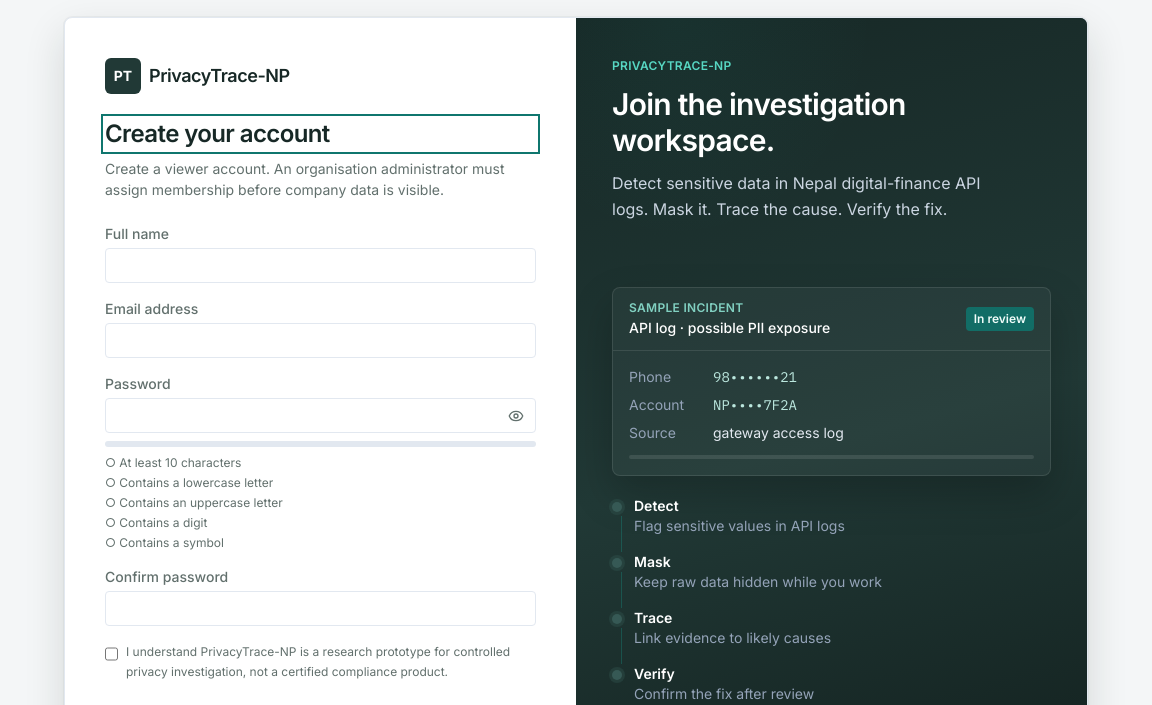
it: auth signup UI › validates password mismatch client-side
Expected: the heading "Create your account" is shown, x1=105 y1=118 x2=536 y2=150
Type "Synth User" into the field labelled "Full name" at (320, 266), box x1=105 y1=248 x2=536 y2=283
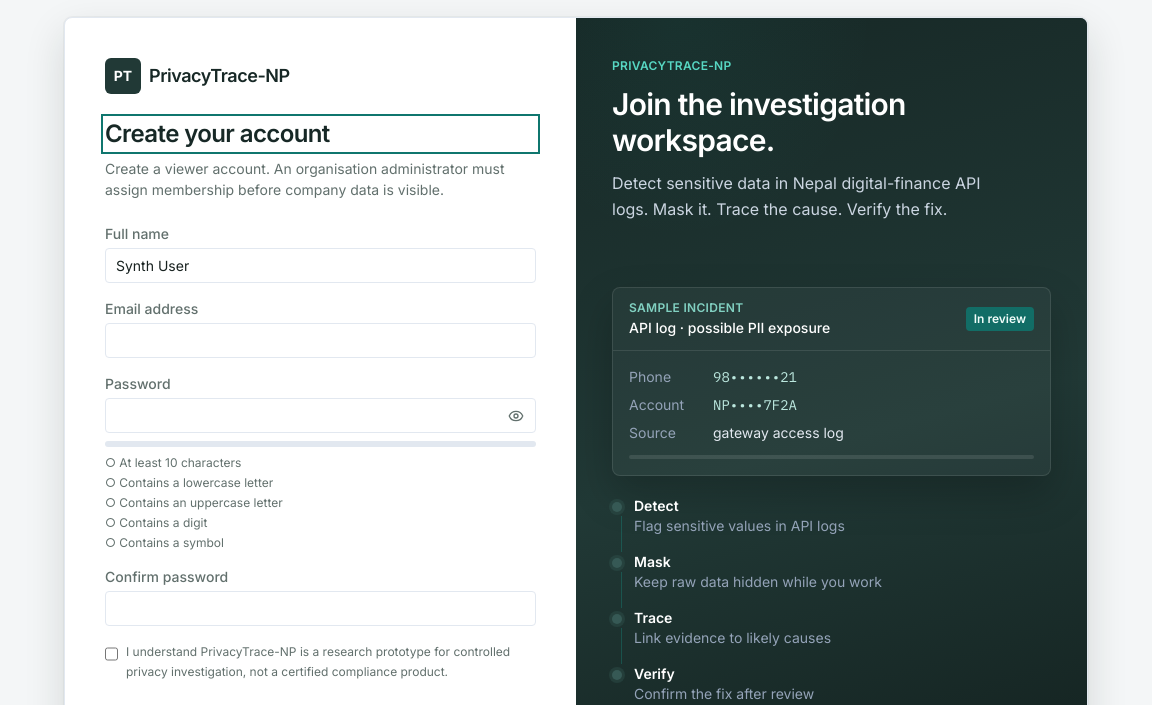
Type "synth@example.test" into the field labelled "Email address" at (320, 340), box x1=105 y1=323 x2=536 y2=358
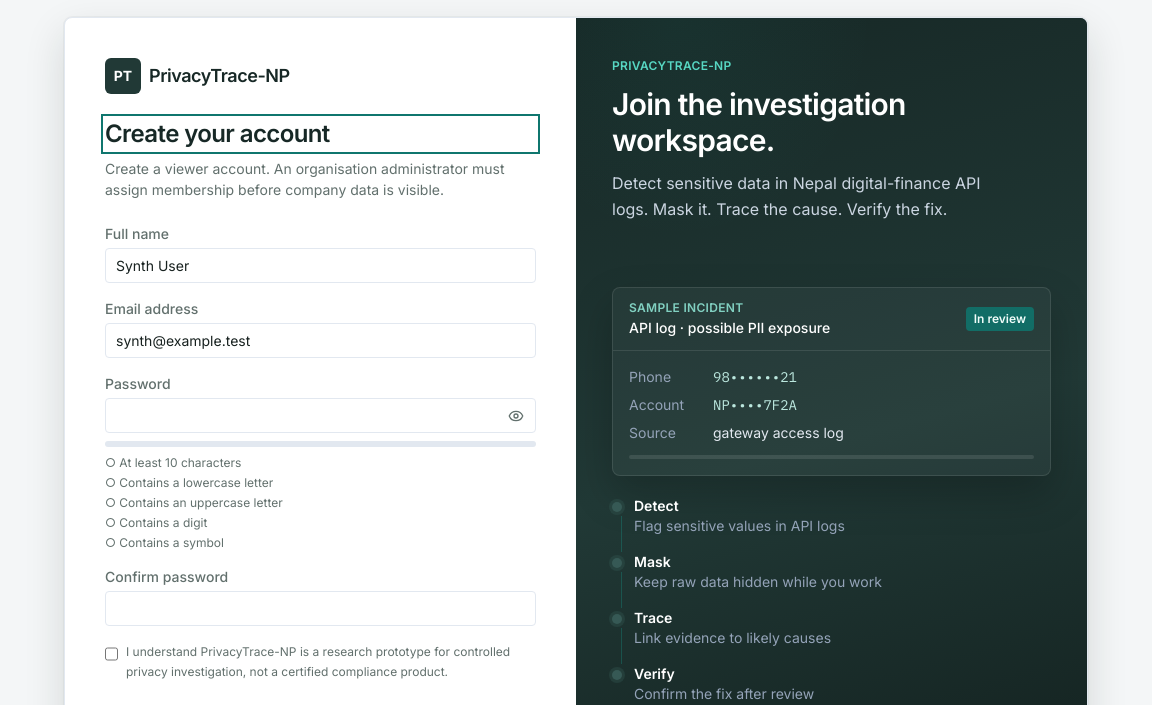
Type "SyntheticPass123!" into the password field labelled "Password" at (320, 416), box x1=105 y1=398 x2=536 y2=433
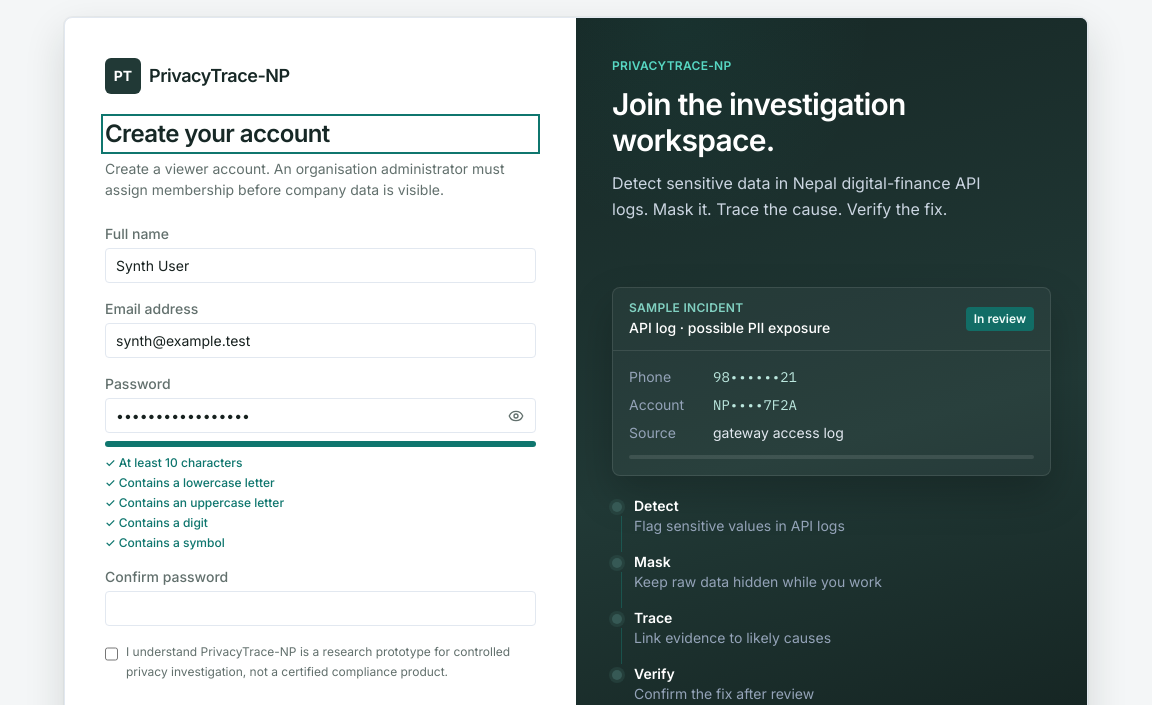
Type "DifferentPass123!" into the password field labelled "Confirm password" at (320, 608), box x1=105 y1=591 x2=536 y2=626
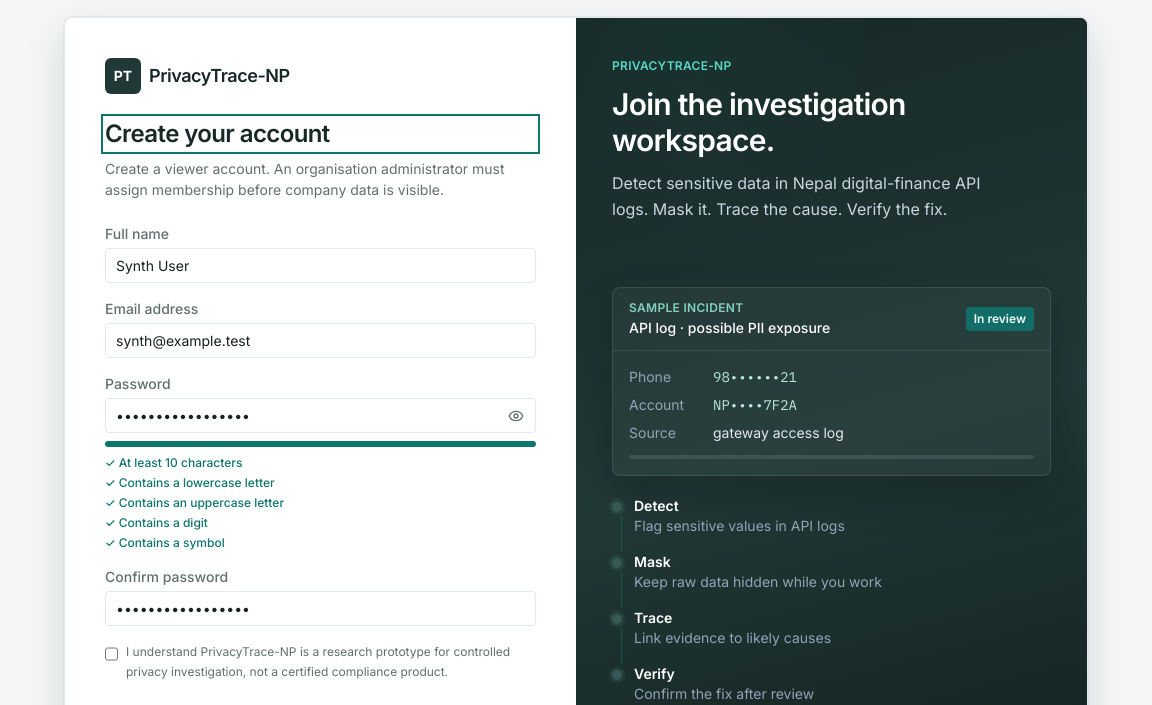
Click the checkbox labelled "research prototype" at (112, 654), box x1=105 y1=646 x2=118 y2=662
(page scrolled)
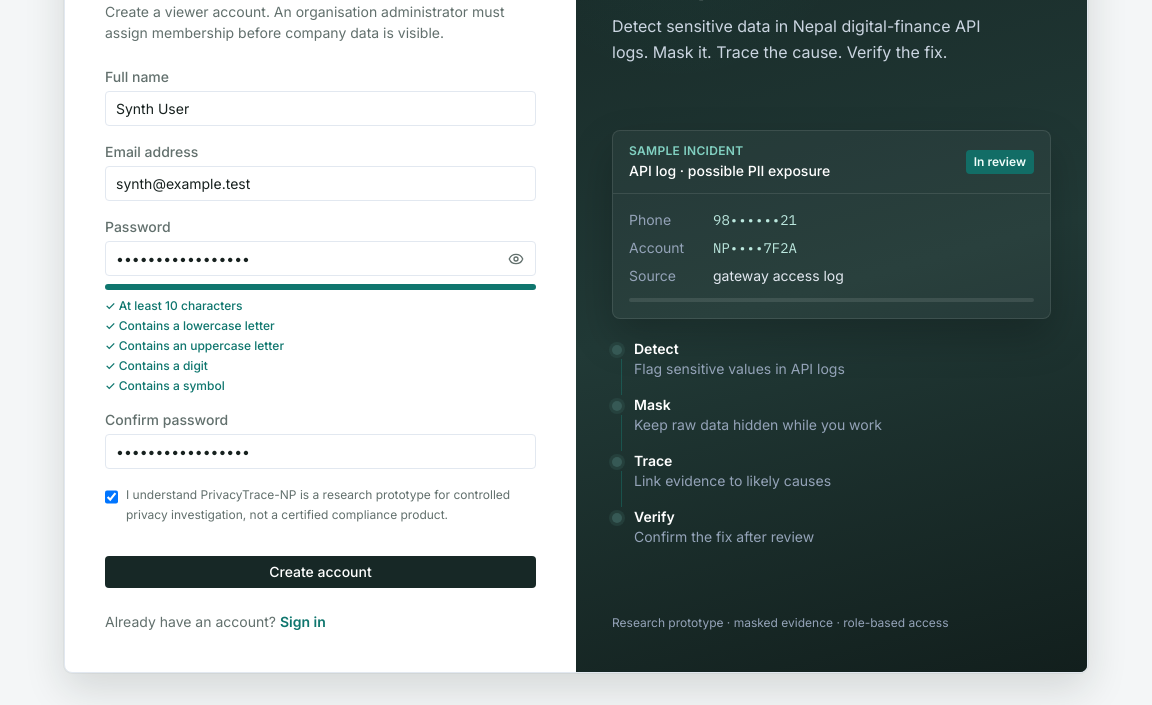
Click the button "Create account" at (320, 572), box x1=105 y1=556 x2=536 y2=588
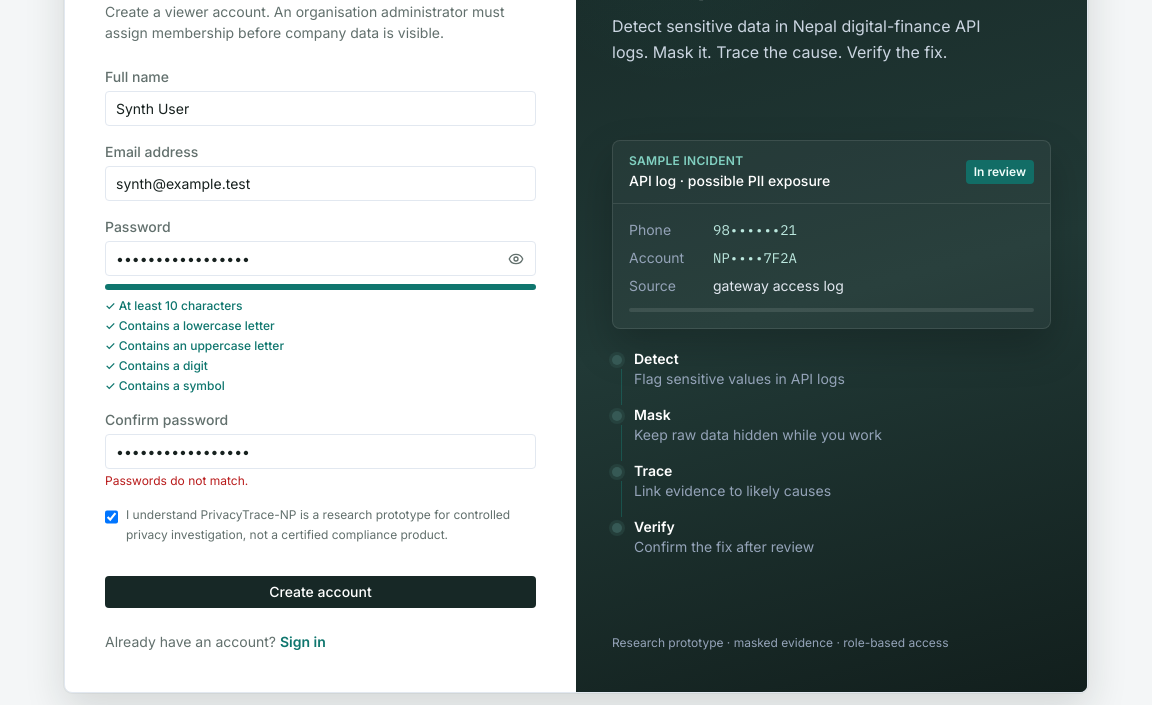
Now the text "Passwords do not match." is shown, box x1=105 y1=473 x2=248 y2=488
